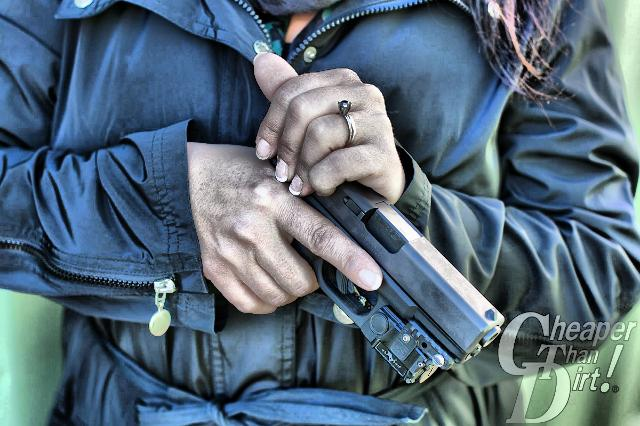pistol: (226, 131, 507, 390)
